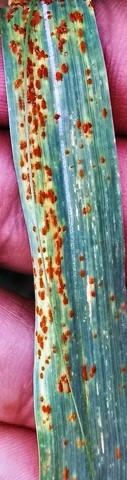Leaf Rust: (7, 8, 127, 447)
